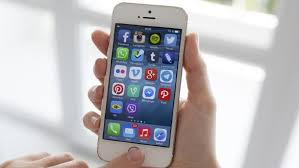iphone: (92, 1, 190, 165)
iphone5: (92, 1, 190, 164)
